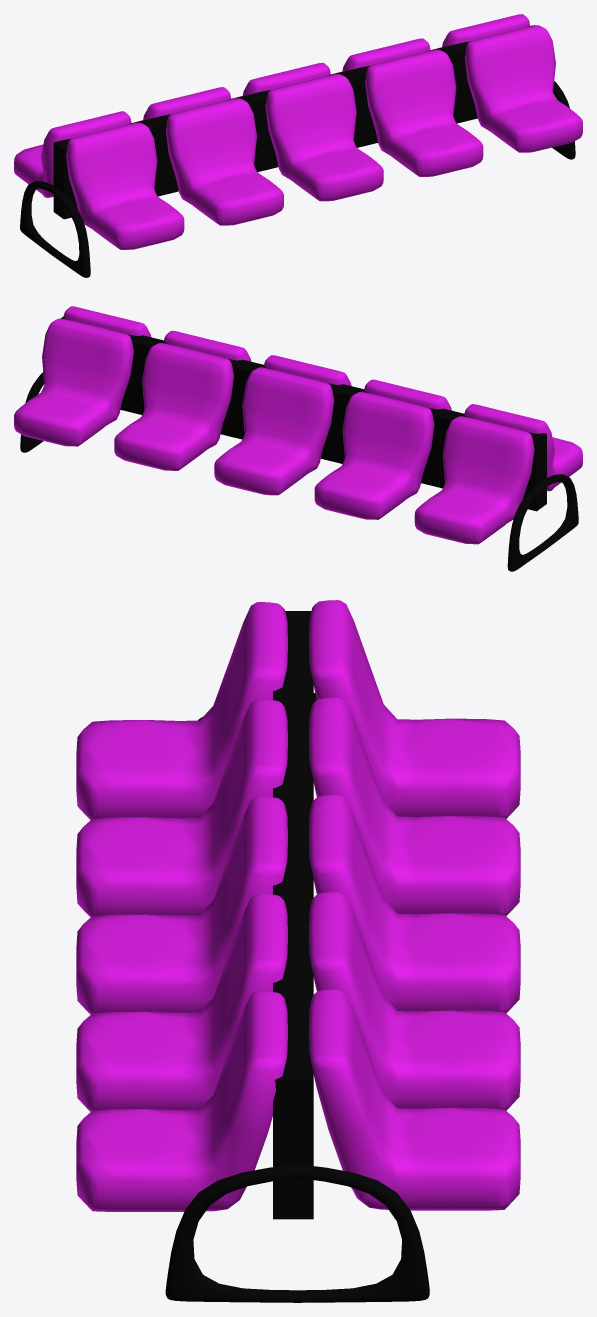
Rendered from BeklemeKoltuklari.fbx.
The picture shows the model from 3 angles, top to bottom: view 1: azimuth 30°, elevation 25°; view 2: azimuth 150°, elevation 25°; view 3: azimuth 270°, elevation 25°; orthographic projection. The views are drawn at different scales.
Visible parts, largest first — view 1: BeklemeKoltuklari; view 2: BeklemeKoltuklari; view 3: BeklemeKoltuklari.
Part boxes in pixels (x1=…): BeklemeKoltuklari: x1=14, y1=14, x2=582, y2=277; BeklemeKoltuklari: x1=14, y1=306, x2=582, y2=571; BeklemeKoltuklari: x1=76, y1=600, x2=520, y2=1302.
Bounding box in the file's own units: 366 × 83.8 × 143.
